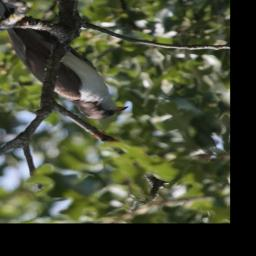Cuckoo: (0, 0, 130, 120)
